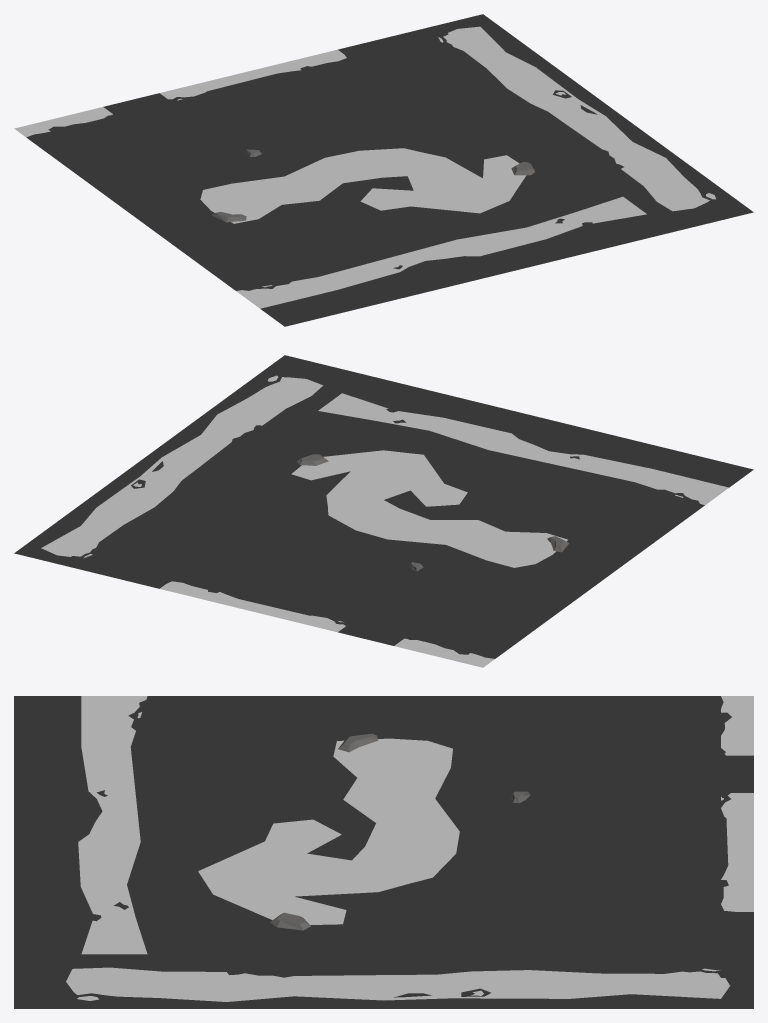
The model's file is Asphalt_07.FBX.
3 views of the same model, one above another, from view 1: azimuth 30°, elevation 25°; view 2: azimuth 150°, elevation 25°; view 3: azimuth 270°, elevation 25° (orthographic). The views are drawn at different scales.
Parts seen in each view (by area): view 1: Asphalt_07; view 2: Asphalt_07; view 3: Asphalt_07.
Part boxes in pixels (<box>): Asphalt_07: <box>14,14,753,326</box>; Asphalt_07: <box>14,355,753,667</box>; Asphalt_07: <box>14,696,753,1008</box>.
Bounding box in the file's own units: 5 × 0.03 × 5.
